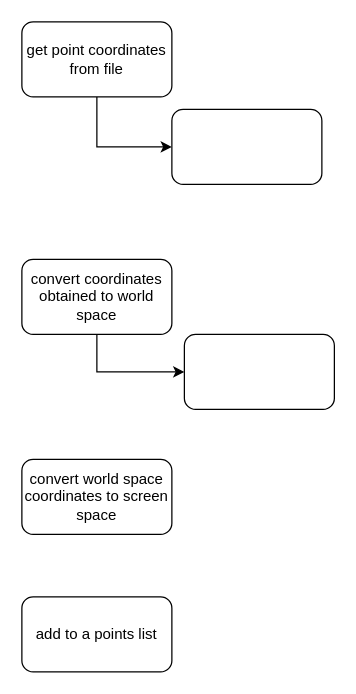
The diagram is 356 pixels wide and 694 high, and some of its shapes have lost their labels. Each missing label, with the centre of its shape:
"convert X, Y, Z" belongs at [258,371].
"define point coordinates considering the context of the point" belongs at [246,146].
